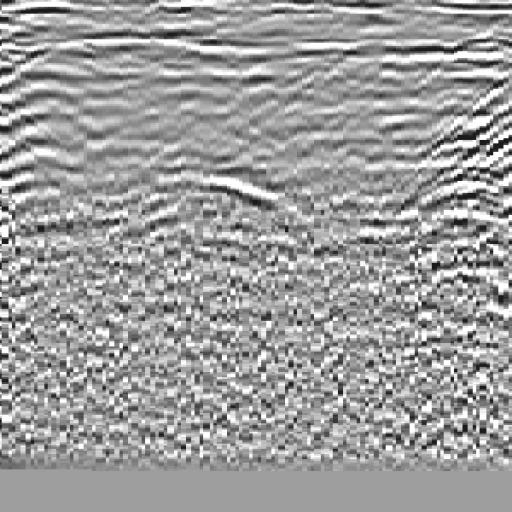metalic: (140, 41, 322, 260)
nonmetalic: (376, 45, 512, 271)
